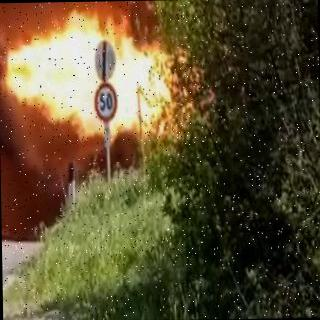smoke: (29, 0, 187, 31), (0, 91, 33, 238)
